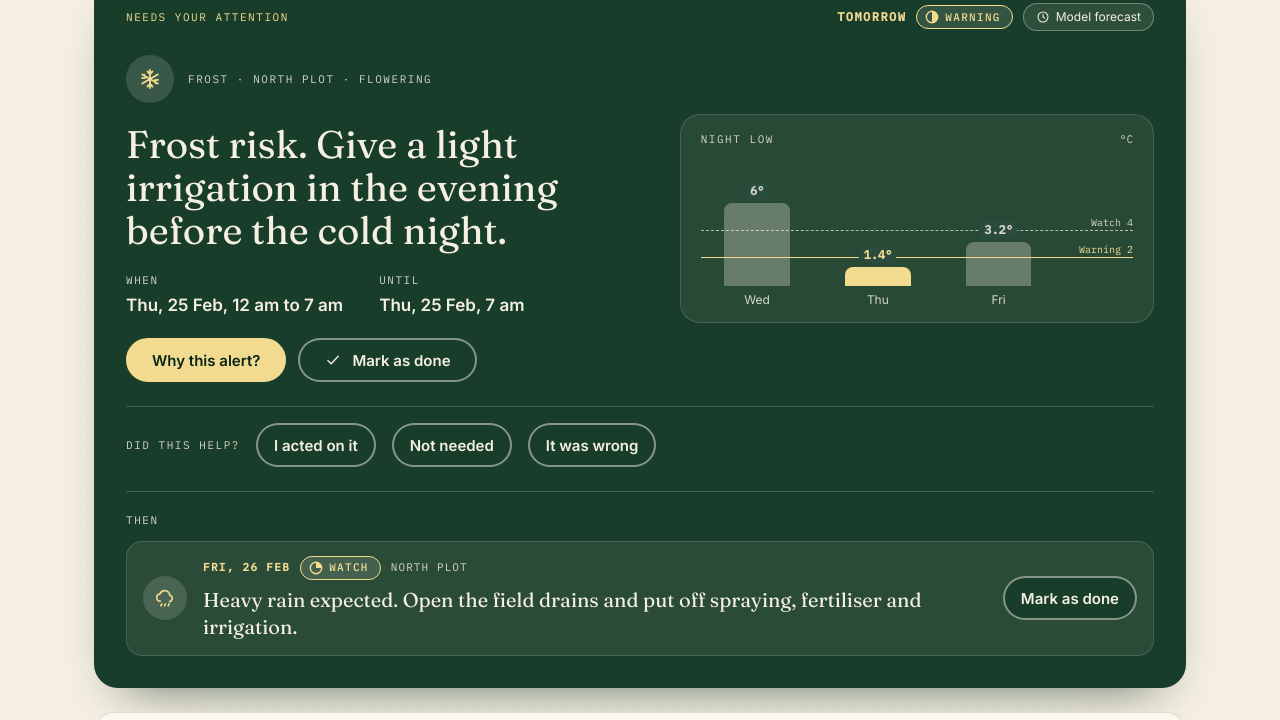
Test case: Weather & Alerts states › marking the lead alert done moves it down and the next one leads; undo brings it back
(page scrolled)
Click the button "Mark as done" below "Thu, 25 Feb, 12 am to 7 am" at (387,360), box [298, 338, 476, 382]
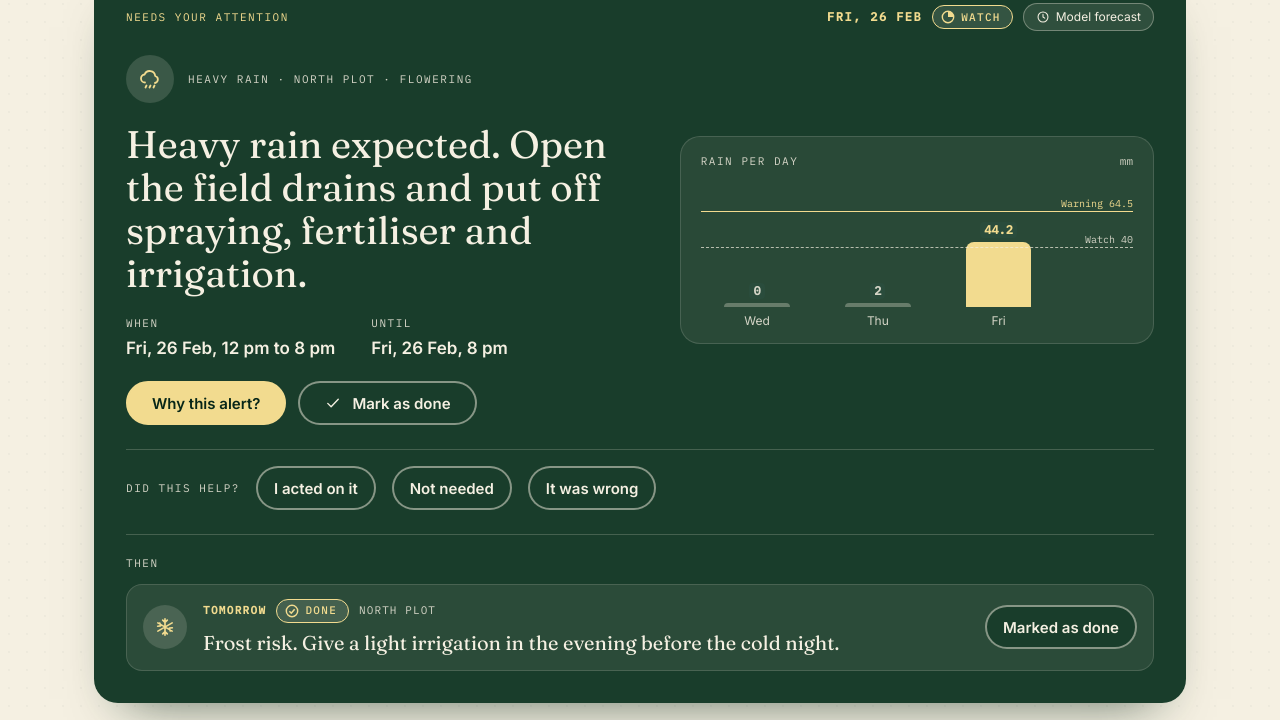
Expected: the 2nd heading shows "Heavy rain expected", [126, 120, 607, 297]
Expected: the text "Frost risk" is shown, [203, 630, 839, 655]
Expected: the text "Done" is shown, [276, 599, 349, 623]
Click the button "Marked as done" at (1061,627), box [985, 605, 1137, 649]
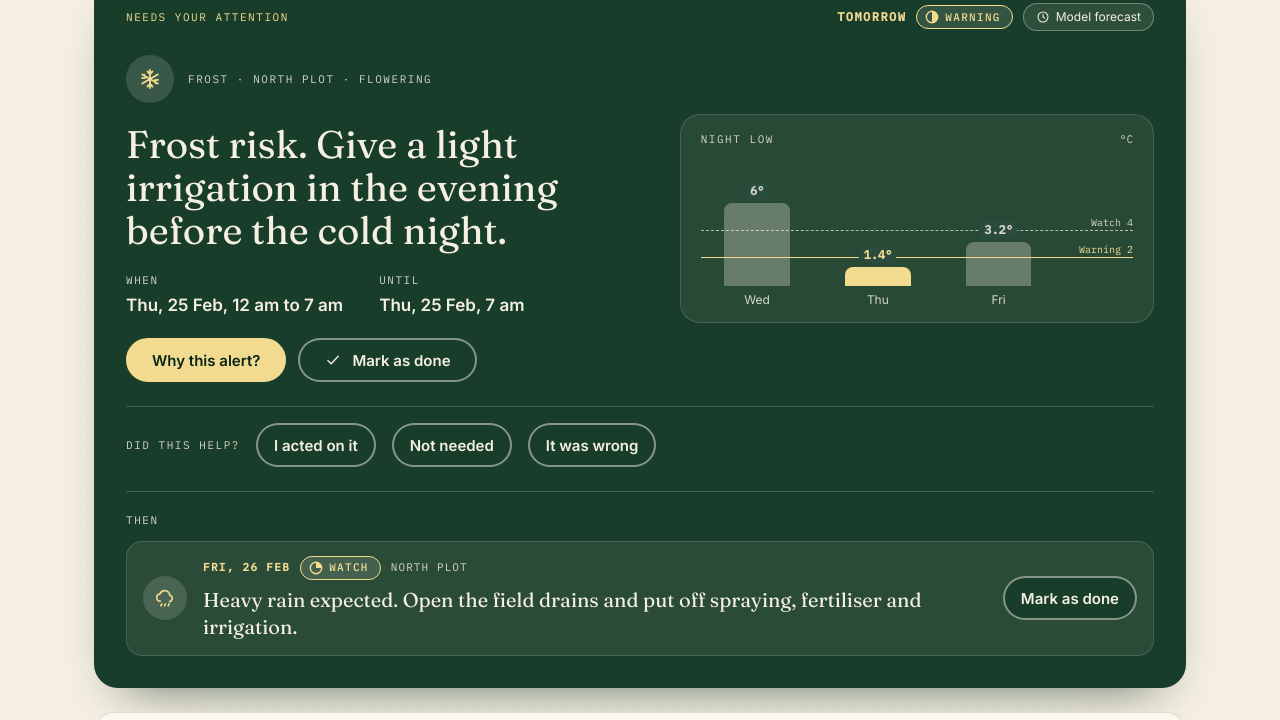
Expected: the 2nd heading shows "Frost risk", [126, 120, 558, 254]
